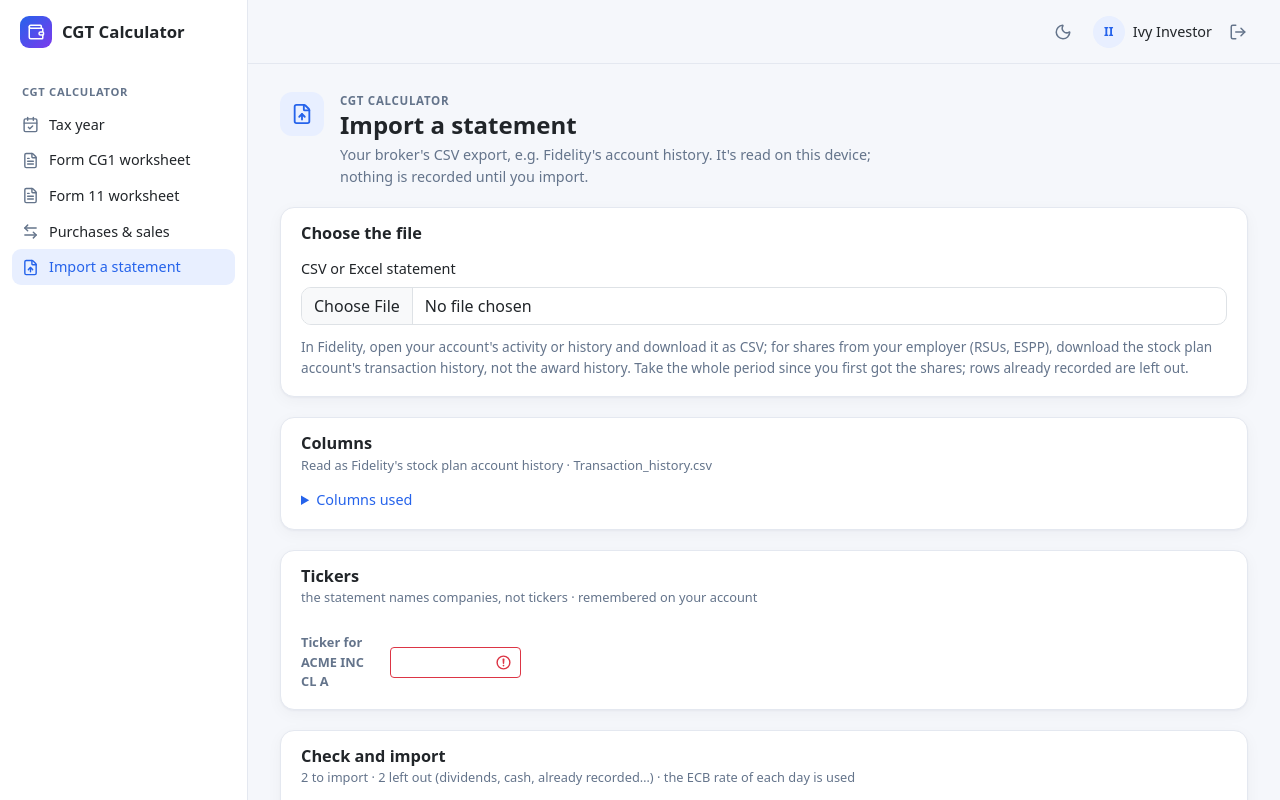
Test: CGT calculator: importing a statement › reads Fidelity's stock plan history: asks each company's ticker once, and remembers it
Earlier steps of the test are not shown.
Later steps or results of the test are not shown.
Expected: the heading "Import a statement" is shown, [340,108,577,141]
Expected: the text "Read as Fidelity's stock plan account history" is shown, [301,456,712,474]
Type "acme" into the field labelled "Ticker for ACME INC CL A" at [455, 662], box [390,647,520,678]
(page scrolled)
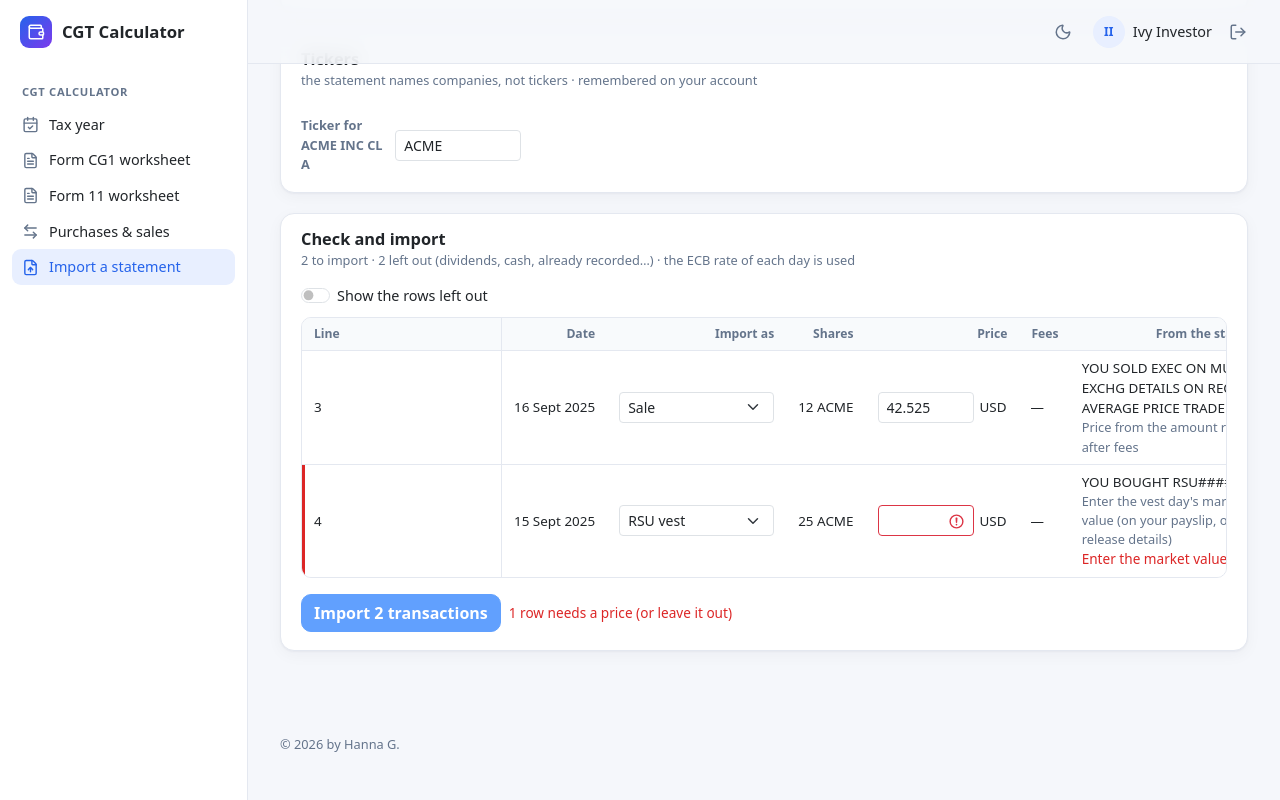
Result: the text "Enter the vest day's market value (on your payslip, or the release details)" is shown at [1082,492,1227,550]
Type "41" into the field named "Price a share on line 4 (USD)" at [926, 521], box [878,505,974,536]
(page scrolled)
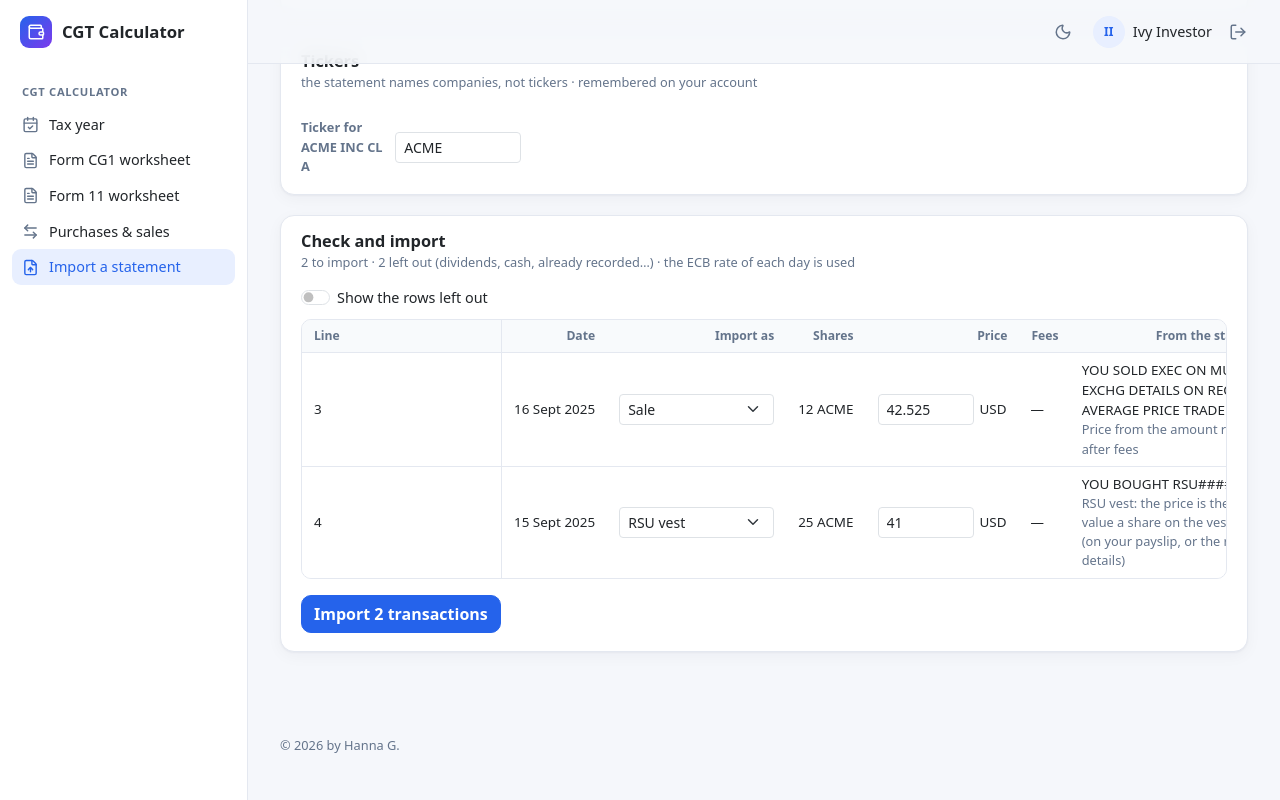
Click the button "Import 2 transactions" at [401, 614], box [301,595,501,633]
(page scrolled)
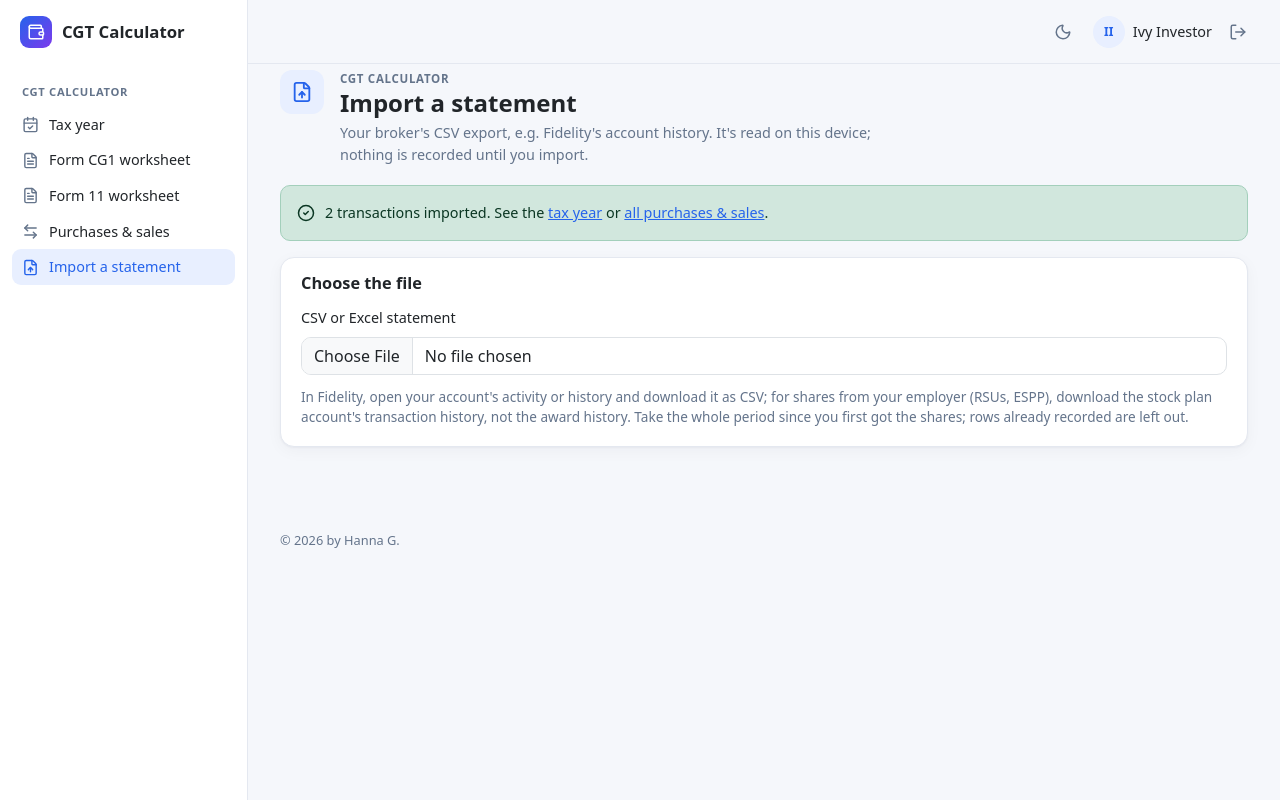
Result: the text "2 transactions imported" is shown at [325,202,768,224]
